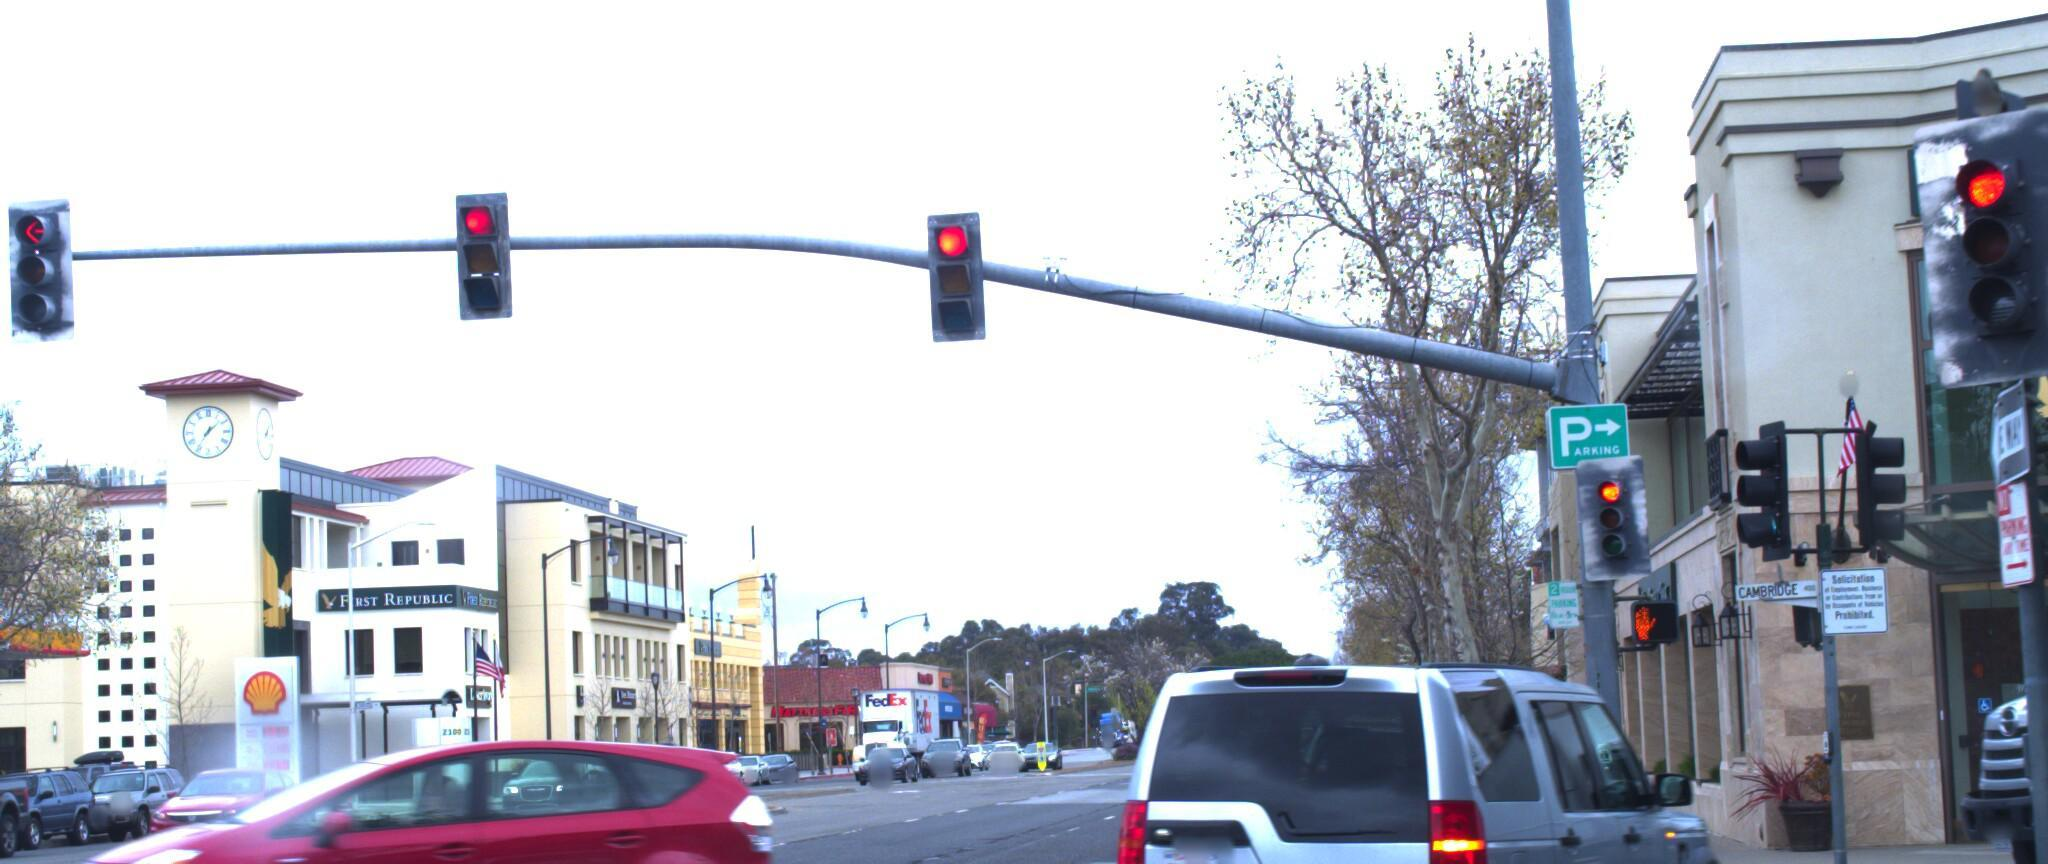car: (1067, 604, 1758, 864), (17, 723, 792, 864), (135, 769, 334, 864), (0, 790, 102, 864), (0, 771, 47, 864)
truck: (1832, 330, 2048, 864)
